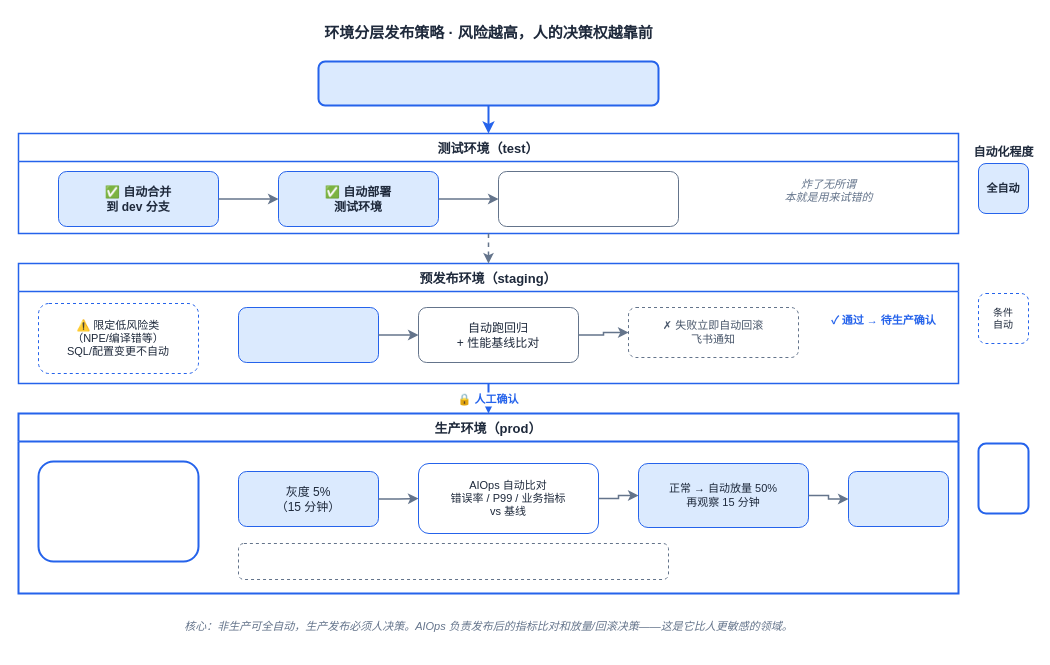
This 1050x665 diagram has some shape labels left out. Each missing label, with the centre of its shape:
"AI 修复 PR · 三层验证全过" goes at (488,83).
"✅ 自动部署 staging" goes at (308,334).
"✗ 任一阶段异常 → AIOps 自动回滚到稳定版本" goes at (453,561).
"人工 卡点" goes at (1003,478).
"持续正常 → 自动全量" goes at (898,498).
"自动跑冒烟 + E2E （再验证一次）" goes at (588,198).
"🔒 人工卡点 review PR + 合 main + 点发布确认" goes at (118,511).
